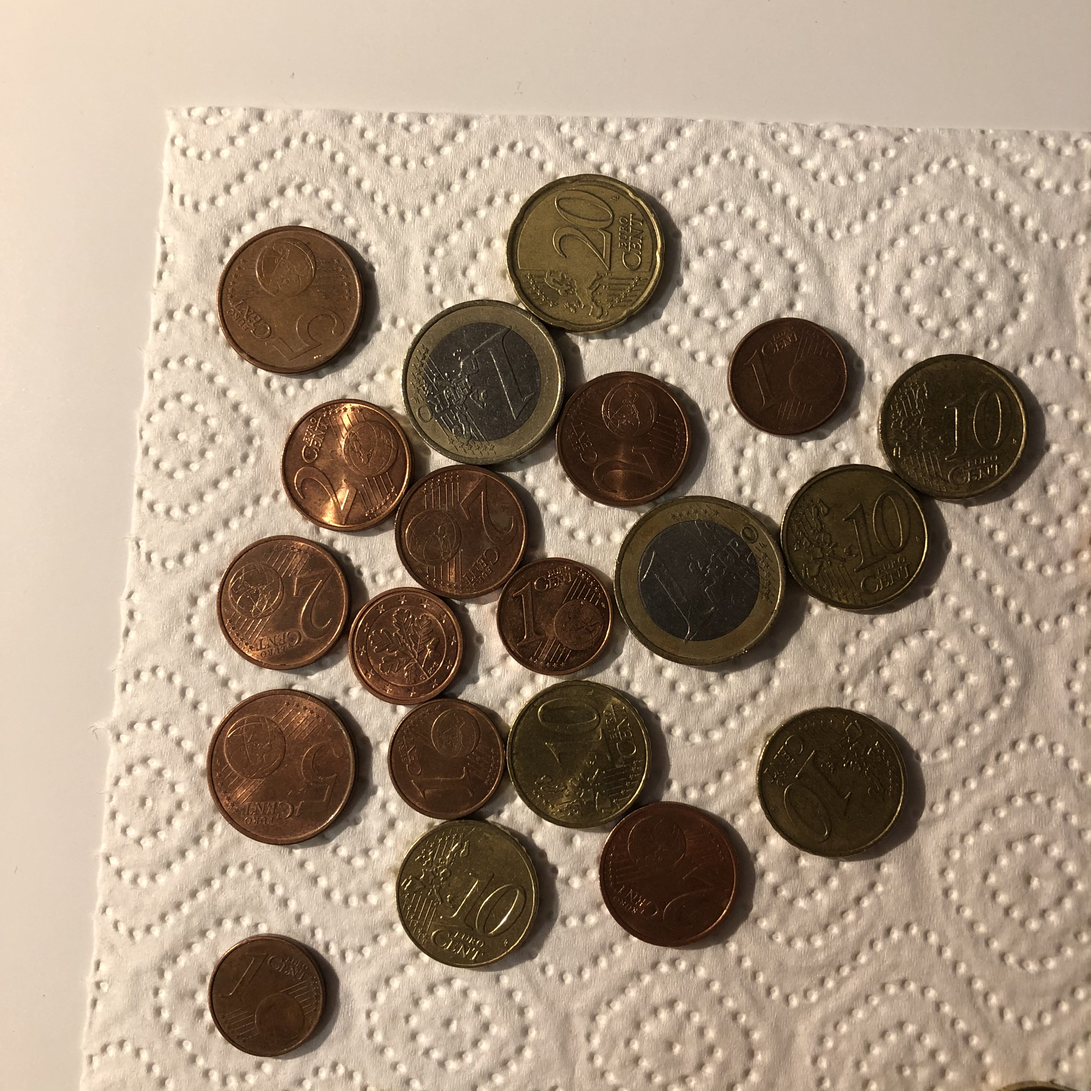1 cent: (209, 937, 330, 1058), (386, 698, 507, 818), (348, 584, 469, 704), (495, 552, 615, 673), (730, 317, 850, 438)
1 euro: (613, 492, 786, 667), (395, 295, 568, 465)
10 cent: (393, 820, 549, 971), (503, 679, 660, 829), (753, 706, 909, 856), (879, 352, 1033, 502), (782, 464, 935, 613)
2 cent: (599, 802, 741, 947), (277, 393, 415, 531), (216, 529, 354, 667), (397, 466, 535, 604), (556, 369, 693, 507)
20 cent: (503, 172, 668, 336)
5 cent: (208, 690, 365, 844), (212, 227, 369, 376)
